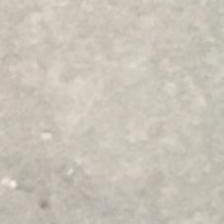Non_Crack: (12, 27, 200, 160)
